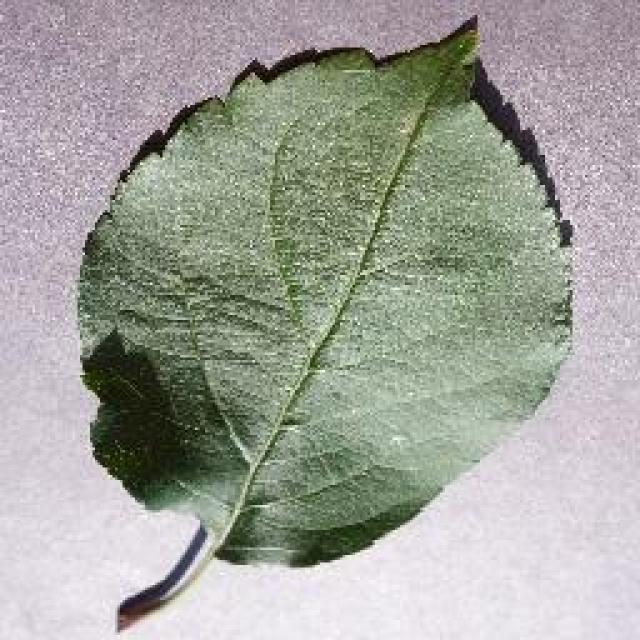apple scab disease: (72, 12, 578, 630)
